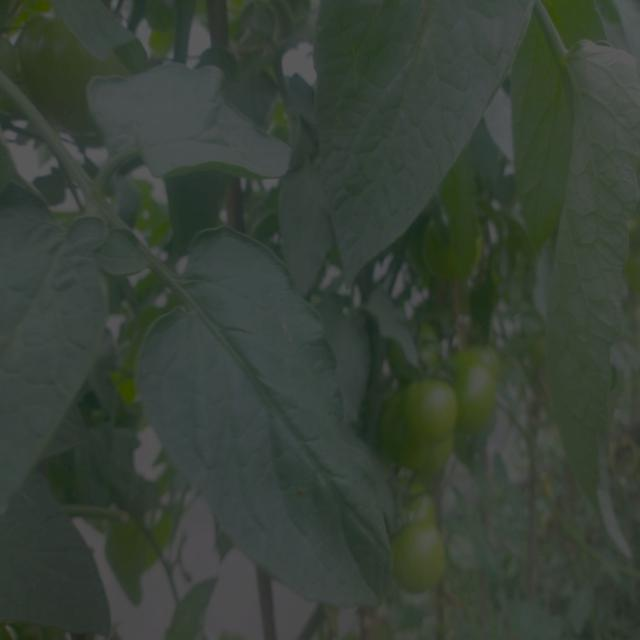tomato: (20, 19, 100, 133), (388, 516, 455, 594), (452, 359, 516, 440), (370, 405, 457, 464), (393, 372, 468, 437), (462, 338, 497, 380)
